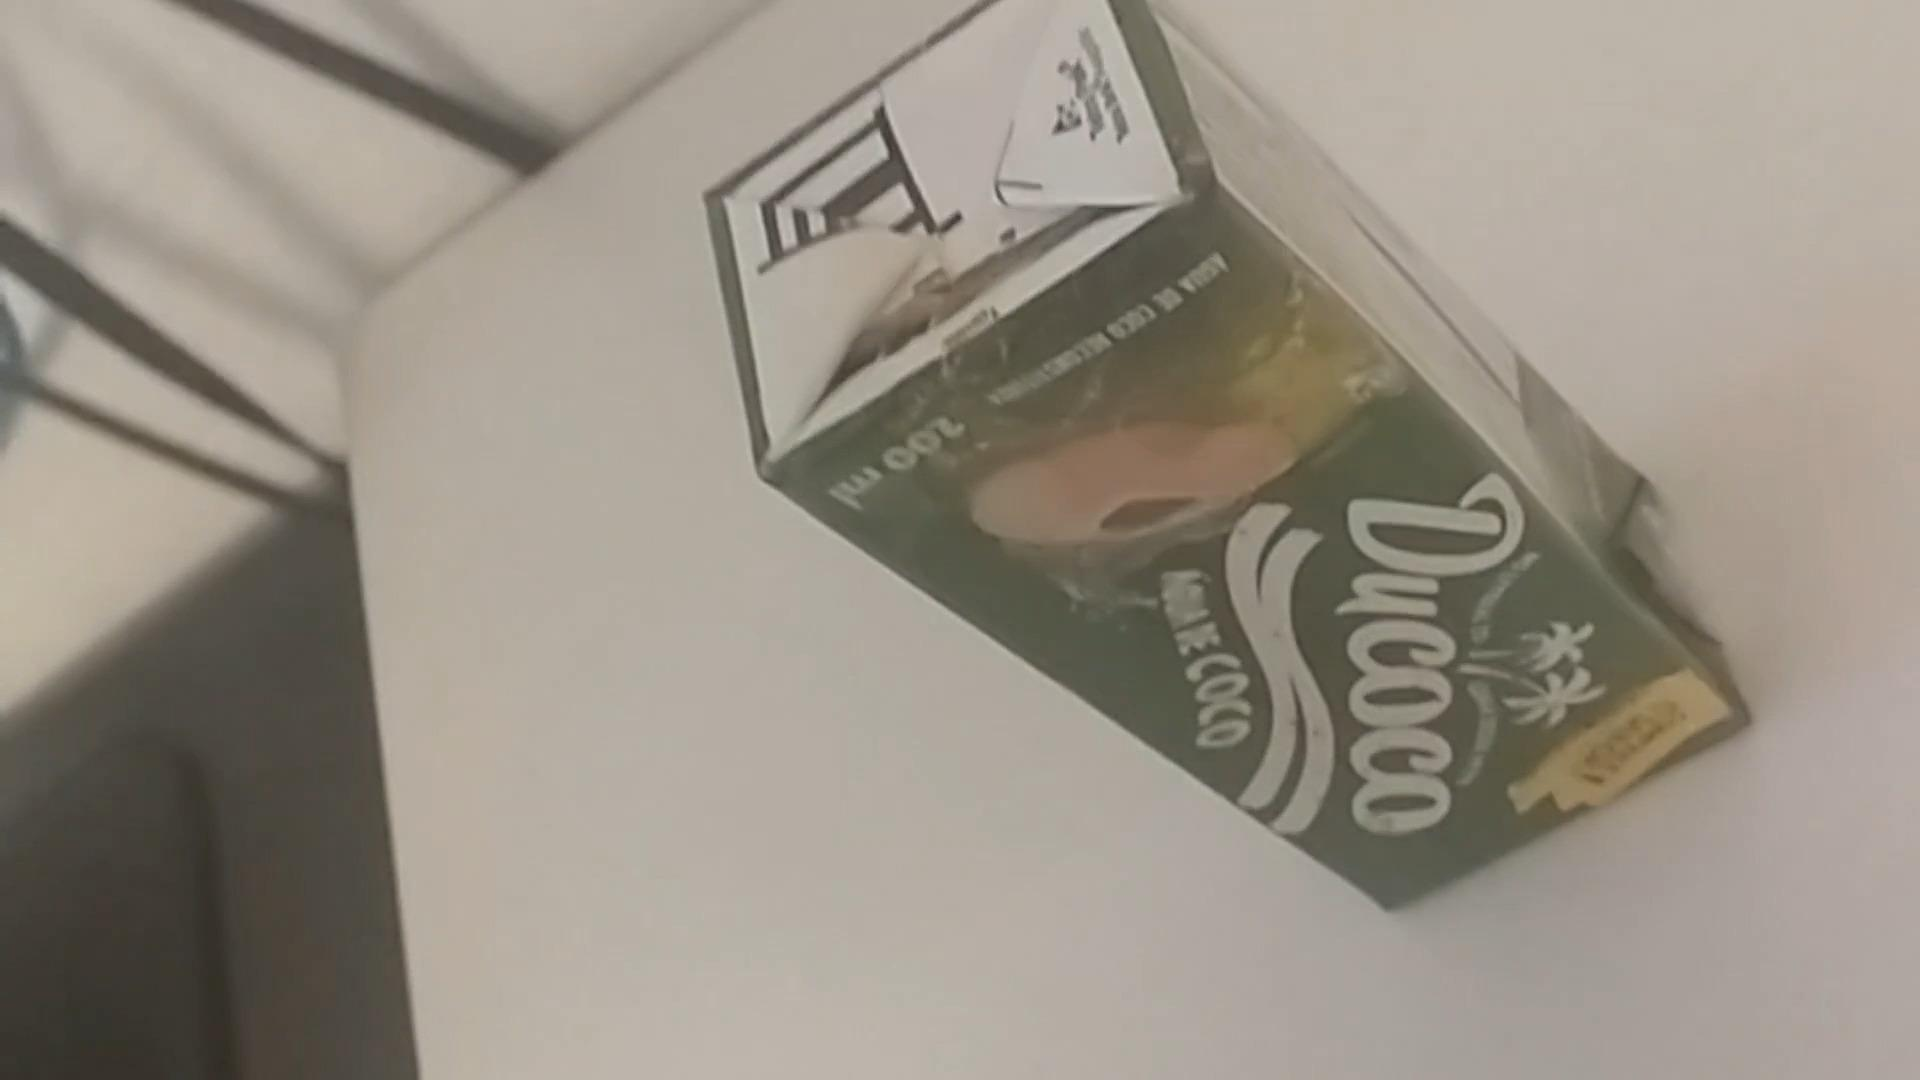coco: (713, 3, 1738, 916)
